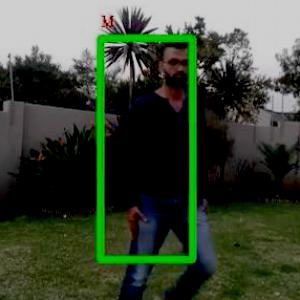follow: (126, 30, 214, 299)
